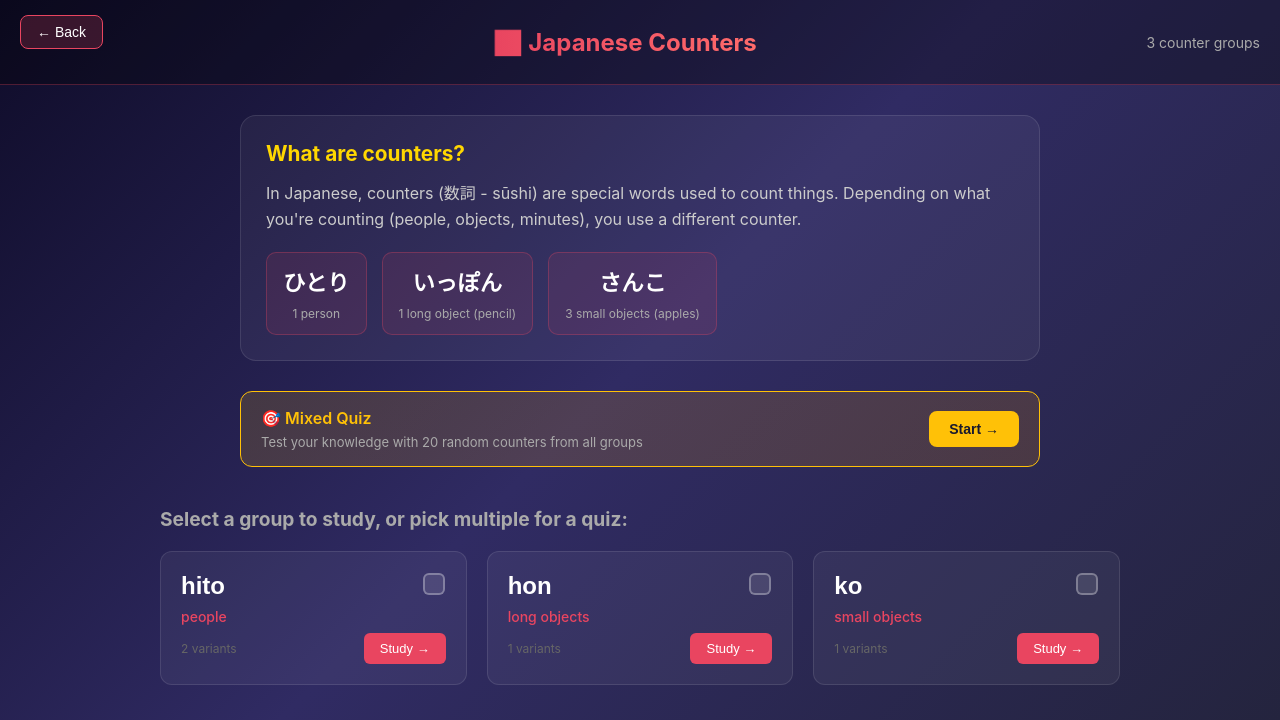
it: CountersMode uncovered flows › should switch to table view and display formation rules
Click the heading "hito".
click(203, 586)  # box [181, 572, 225, 600]
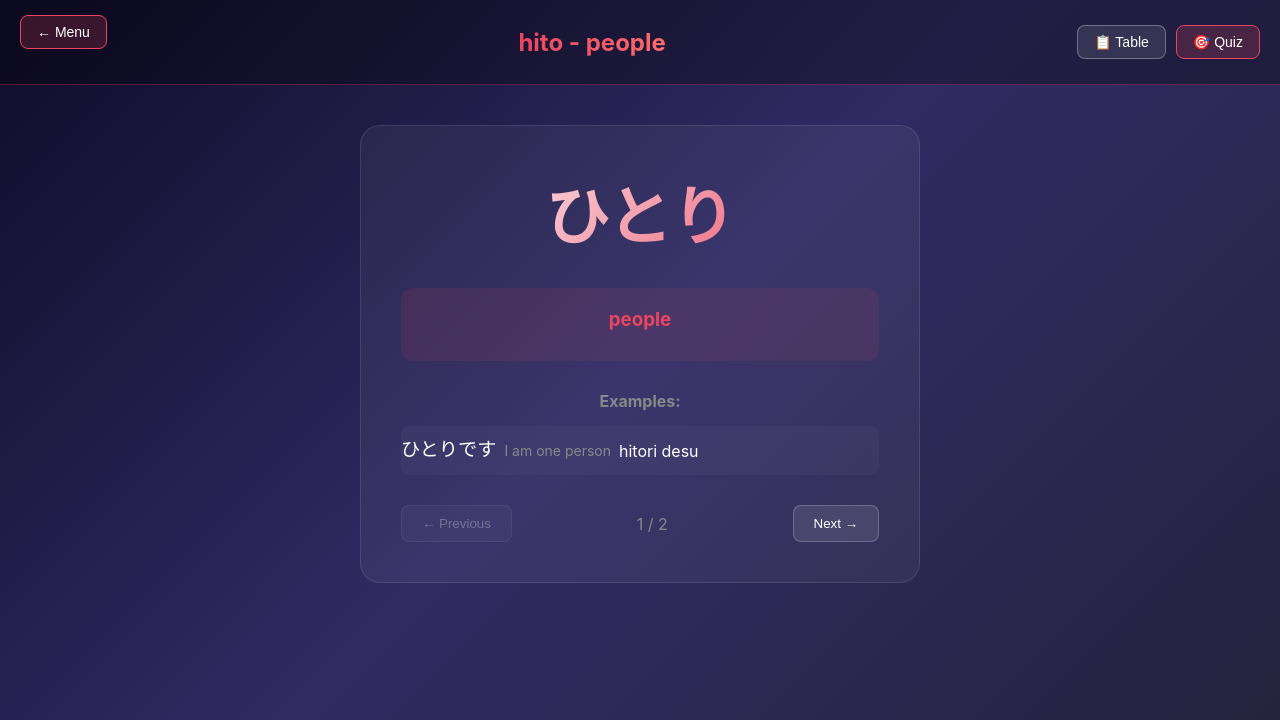
Expected: the button "📋 Table" is shown
Click the button "📋 Table".
click(1122, 42)  # box [1077, 25, 1166, 59]
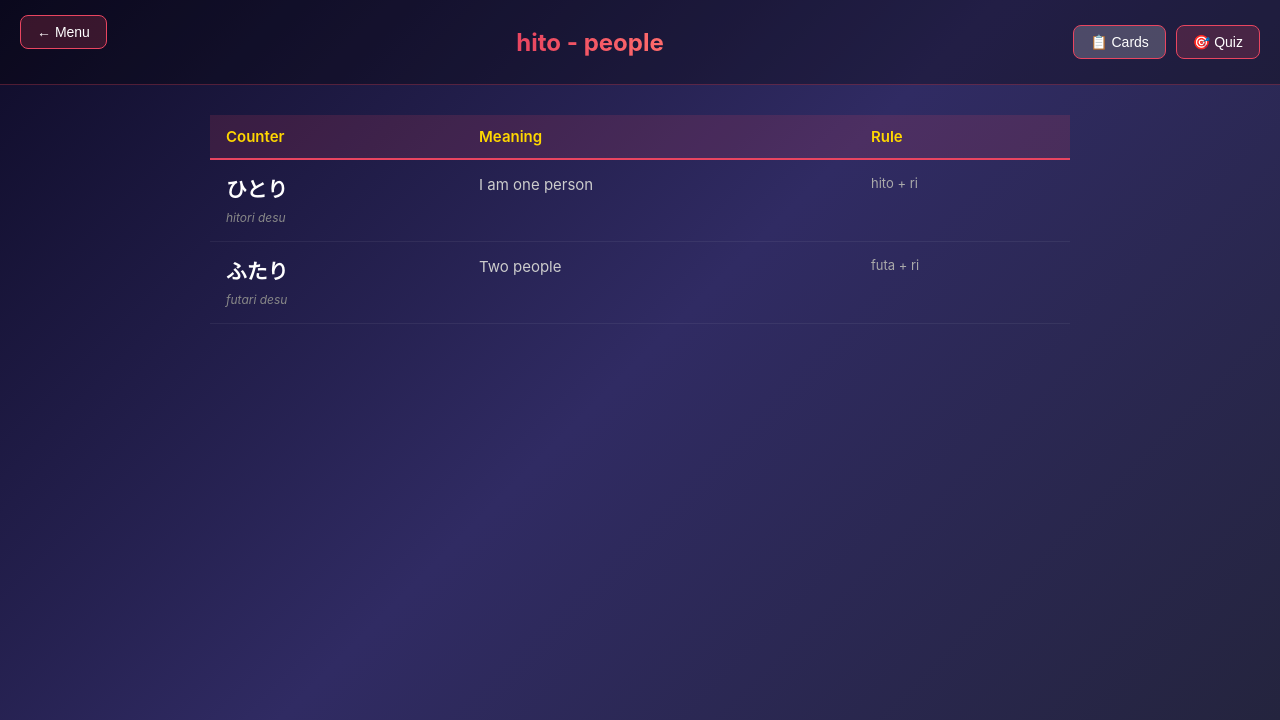
Expected: the table is shown, [210, 115, 1070, 324]
Expected: the column heading "Counter" is shown, [210, 115, 463, 159]
Expected: the column heading "Meaning" is shown, [463, 115, 855, 159]
